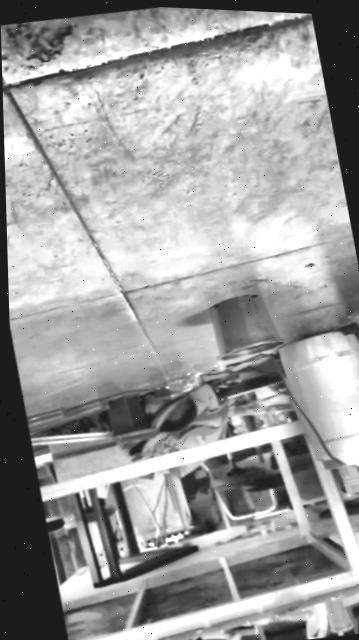pot: (205, 289, 289, 364)
